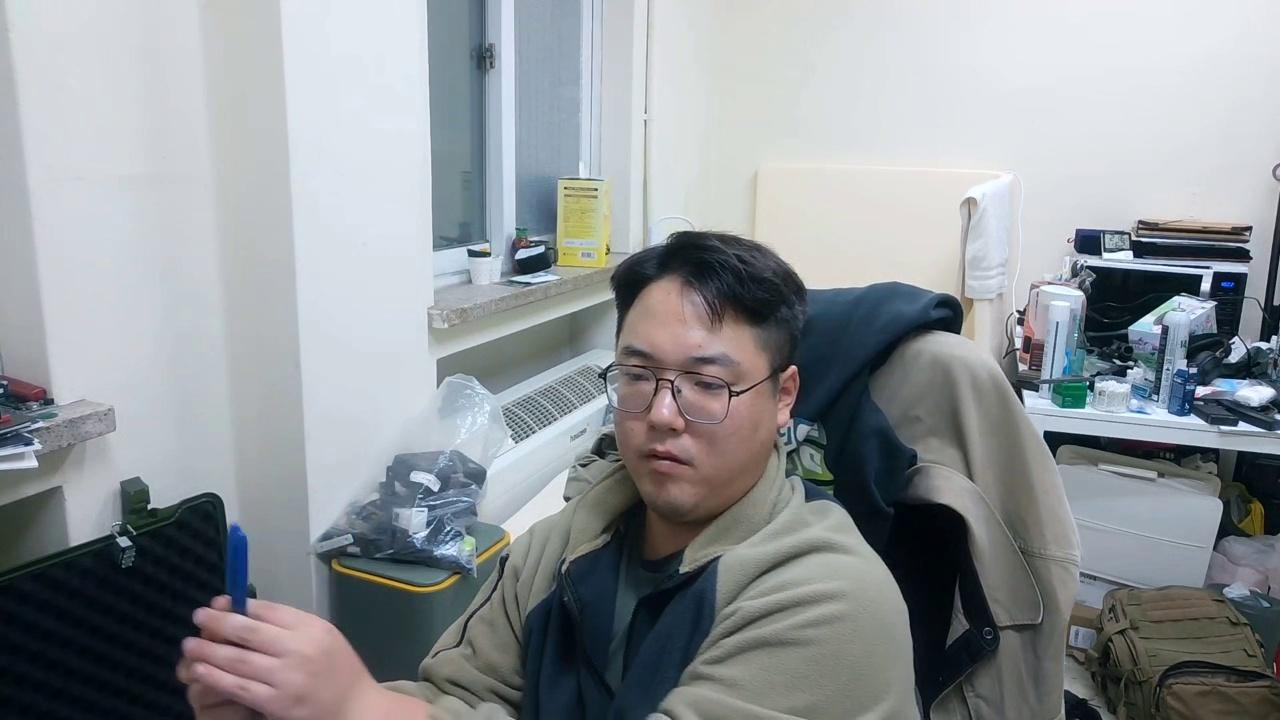blue_pliers: (226, 522, 253, 617)
